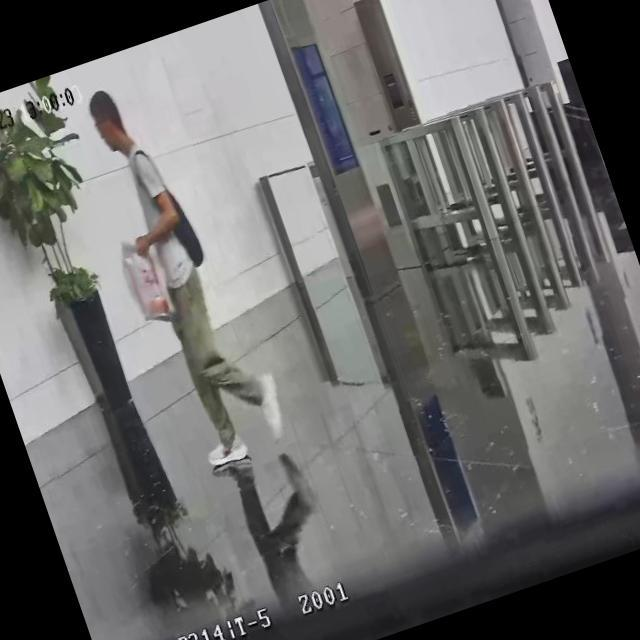person: (80, 67, 296, 474)
